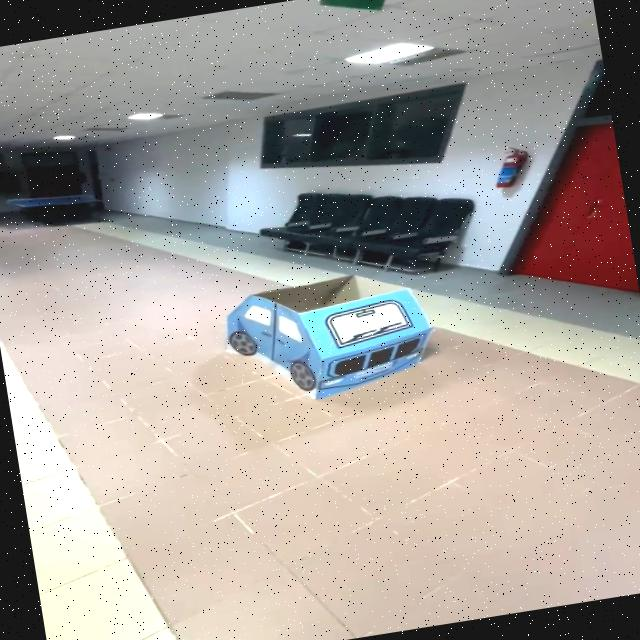blue_car: (194, 249, 450, 425)
